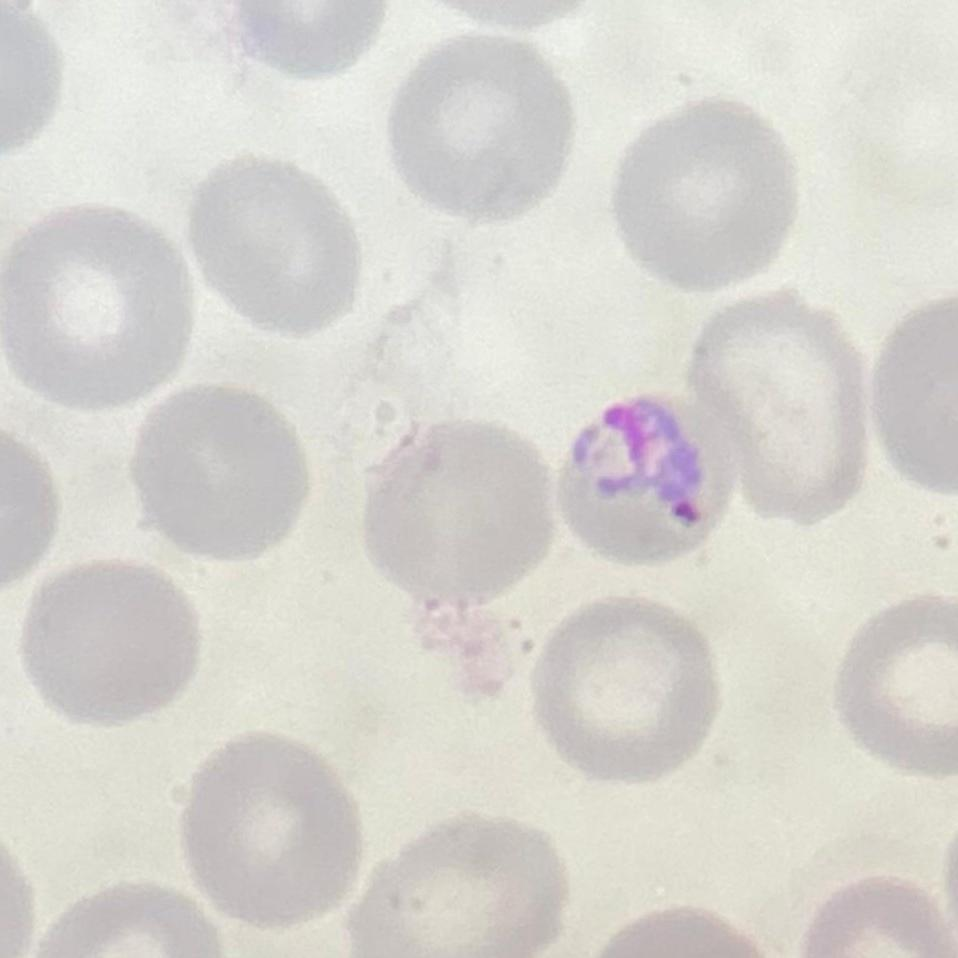Infected: (562, 392, 732, 564)
Uninfected: (702, 297, 876, 524), (363, 420, 555, 608), (618, 95, 798, 295), (7, 207, 182, 411), (537, 594, 722, 783), (390, 37, 576, 222), (187, 734, 360, 932), (183, 157, 362, 336), (357, 814, 570, 958), (23, 560, 204, 728), (130, 389, 299, 561), (830, 587, 958, 769)
